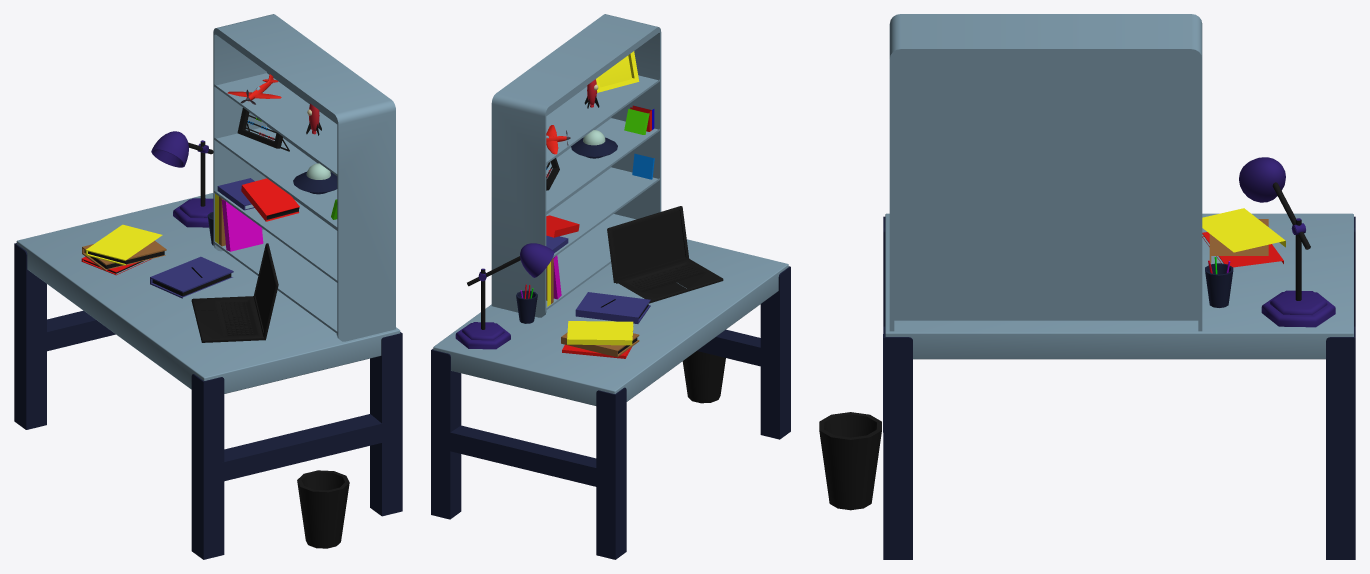
Rendered from copKtusu.fbx.
3 renders of one model, left to right at view 1: azimuth 30°, elevation 25°; view 2: azimuth 150°, elevation 25°; view 3: azimuth 270°, elevation 25°, orthographic. The views are drawn at different scales.
Parts seen in each view (by area): view 1: copKtusu; view 2: copKtusu; view 3: copKtusu.
Boxes of the visible parts, box(x1,y1,x2,y2) form: copKtusu: box(14, 14, 402, 559); copKtusu: box(431, 14, 790, 559); copKtusu: box(819, 14, 1355, 559).
Bounding box in the file's own units: 101 × 198 × 189.
